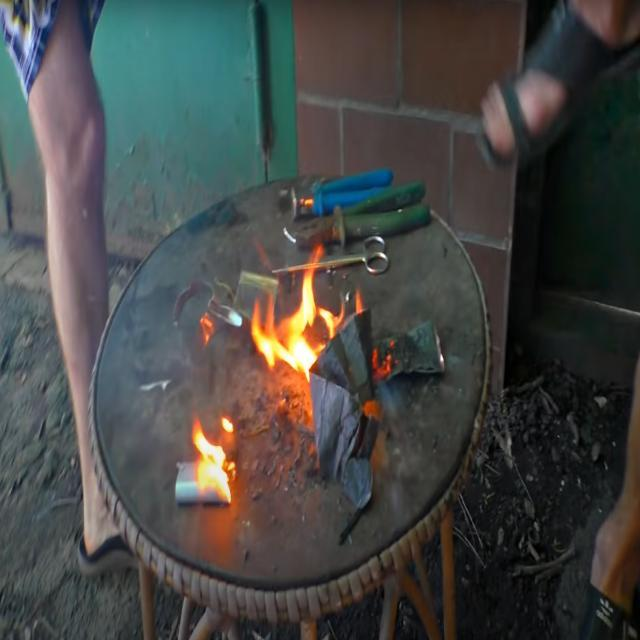Fire: (252, 271, 358, 379), (187, 412, 237, 494)
